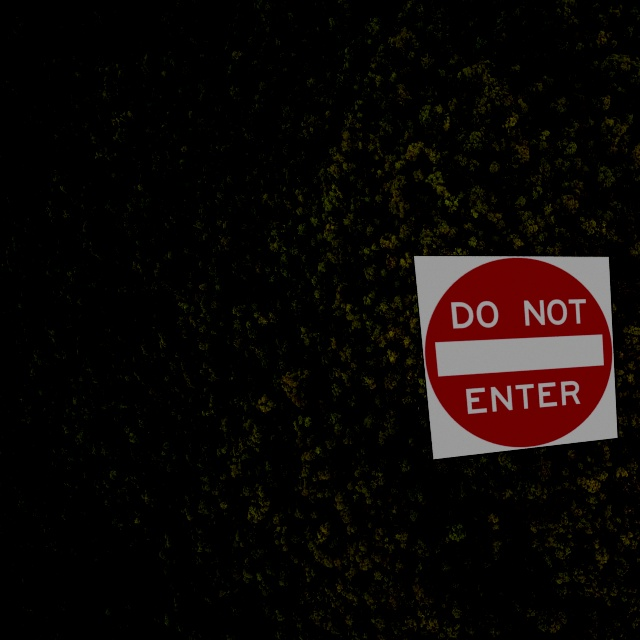DO_NOT_ENTER: (412, 254, 619, 461)
